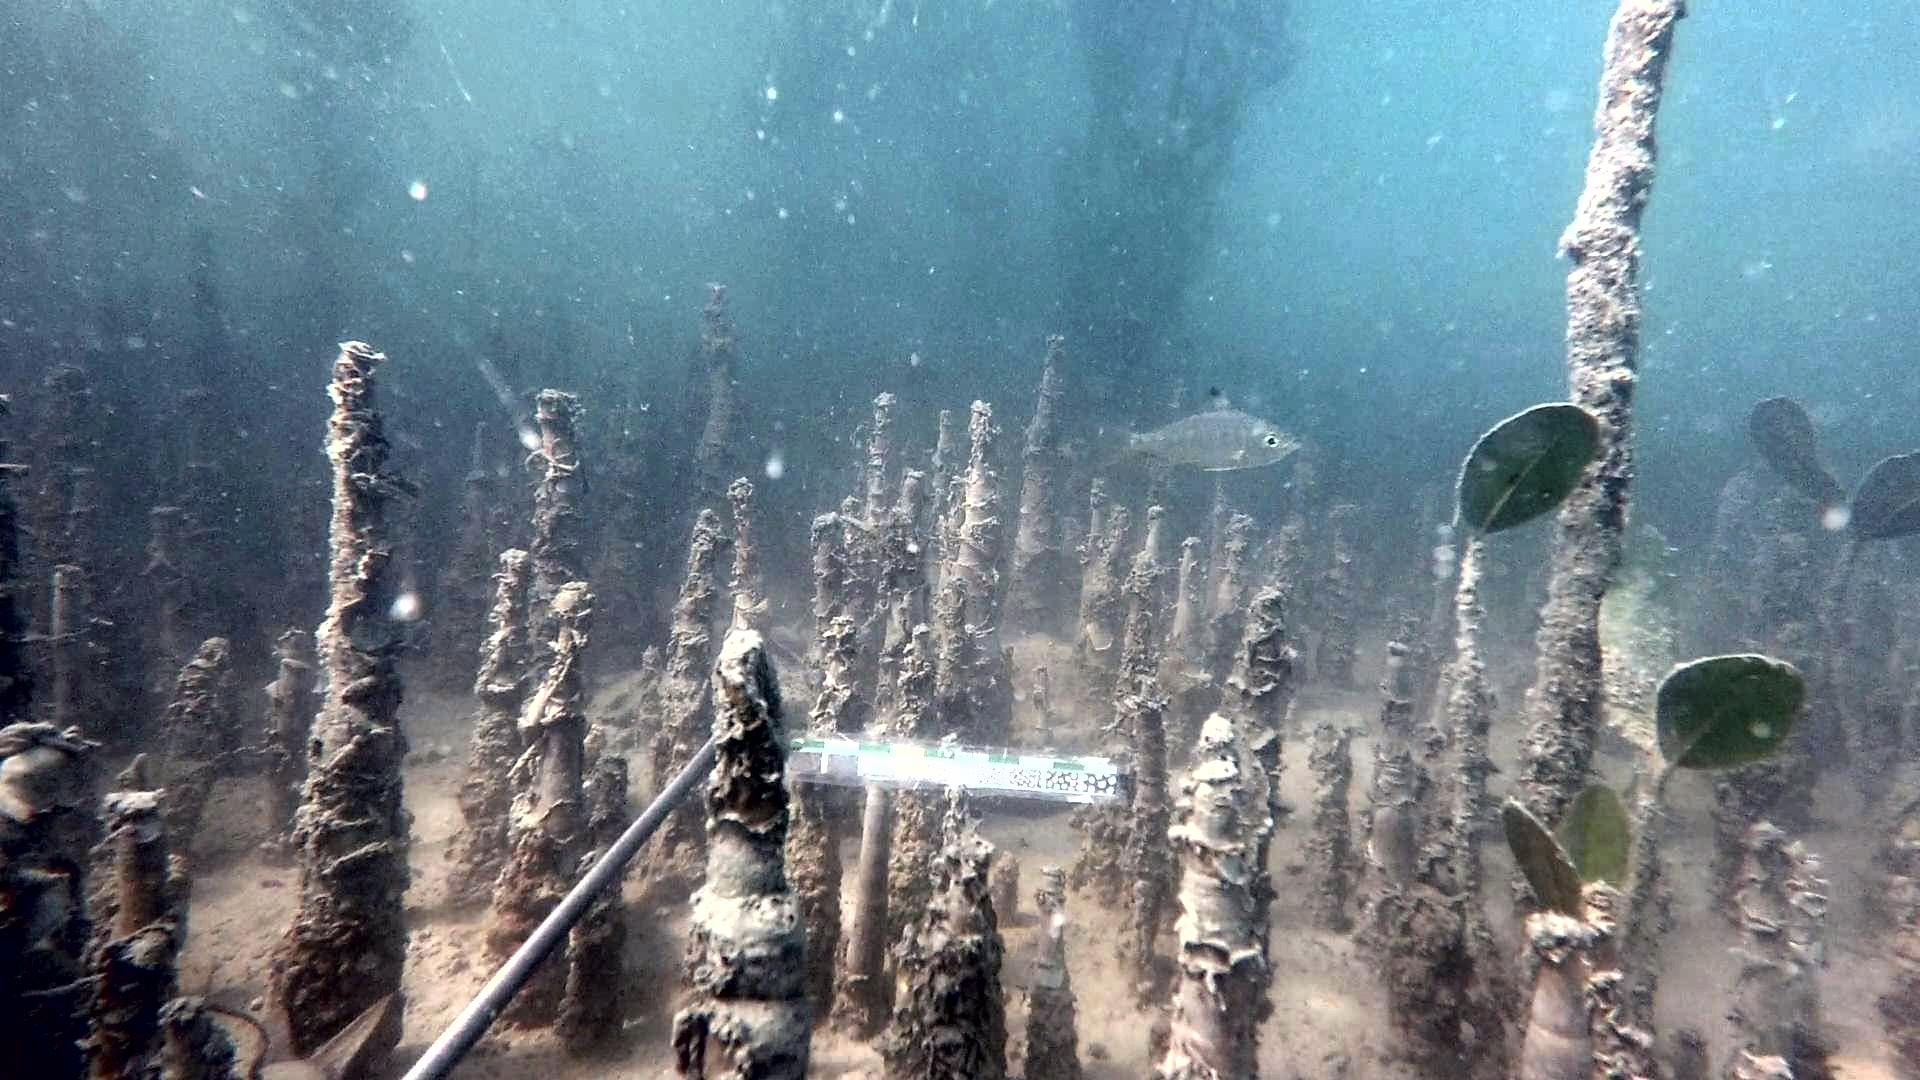gerres: (1095, 383, 1304, 474)
